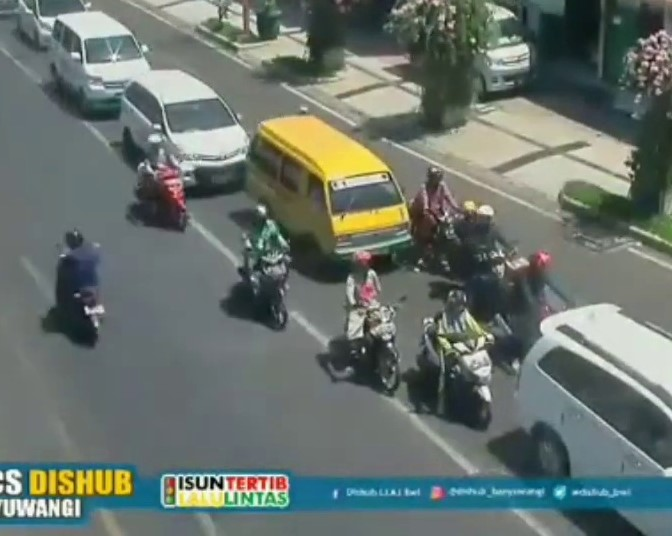car: (515, 299, 669, 536), (244, 119, 413, 268), (122, 71, 247, 193), (52, 14, 150, 120), (16, 1, 91, 51)
motorbike: (422, 289, 493, 434), (336, 250, 401, 394), (506, 247, 573, 378), (237, 200, 289, 333), (55, 228, 107, 349), (405, 165, 460, 275), (456, 204, 510, 312), (135, 130, 187, 237)
